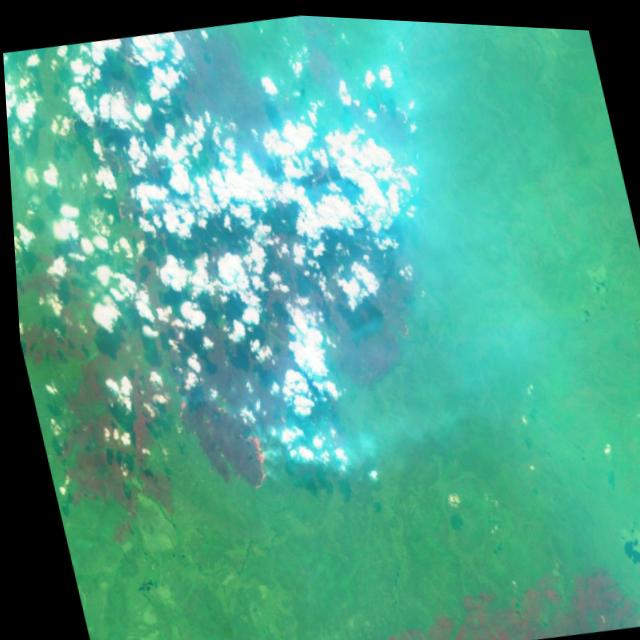fire: (228, 420, 273, 502), (157, 368, 190, 424)
